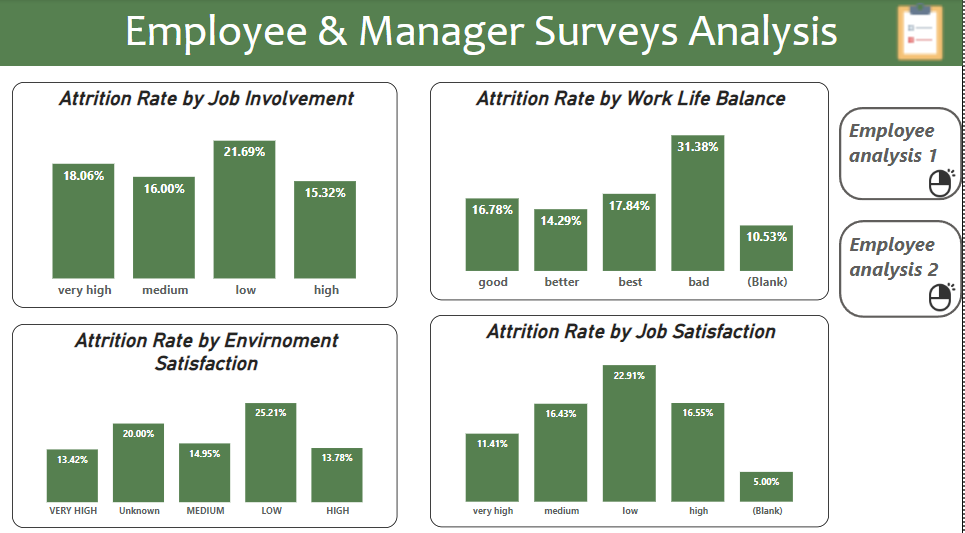

Layout of this report page (visuals, bound fields, positions):
{"tool":"powerbi","page":{"name":"survey analysis","canvas":[1280,720],"ordinal":2},"visuals":[{"type":"columnChart","title":"Attrition Rate by Job Involvement","fields":{"Category":["Dim_Survey.job_involvement"],"Y":["Measures_.Attrition_Rate"]},"box":[17.6,109.8,512.2,300],"z":0},{"type":"columnChart","title":"Attrition Rate by Job Satisfaction","fields":{"Category":["Dim_Survey.job_satisfaction"],"Y":["Measures_.Attrition_Rate"]},"box":[572,420,530,282],"z":1000},{"type":"columnChart","title":"Attrition Rate by Envirnoment Satisfaction","fields":{"Category":["Dim_Survey.env_satisfaction"],"Y":["Measures_.Attrition_Rate"]},"box":[17.6,431.7,512.2,270.7],"z":2000},{"type":"columnChart","title":"Attrition Rate by Work Life Balance","fields":{"Category":["Dim_Survey.Work life balance"],"Y":["Measures_.Attrition_Rate"]},"box":[572,110,530,290],"z":3000},{"type":"textbox","box":[0,0,1280.5,89.3],"z":4000},{"type":"actionButton","box":[1116,144,164,124],"z":5000},{"type":"actionButton","box":[1116,294,164,130],"z":6000},{"type":"image","box":[1168,0,112,90],"z":7000},{"type":"image","box":[1224,372,56,48],"z":8000},{"type":"image","box":[1224,220,56,48],"z":9000}]}

Visuals, with their boxes in screenshot pixels (x1, y1, x2, y2), scaled from the page's 1280x720 canvas onto the 965x533 screenshot:
"Attrition Rate by Job Involvement" columnChart: x1=13 y1=81 x2=399 y2=303
"Attrition Rate by Job Satisfaction" columnChart: x1=431 y1=311 x2=831 y2=520
"Attrition Rate by Envirnoment Satisfaction" columnChart: x1=13 y1=320 x2=399 y2=520
"Attrition Rate by Work Life Balance" columnChart: x1=431 y1=81 x2=831 y2=296
textbox: x1=0 y1=0 x2=964 y2=66
actionButton: x1=841 y1=107 x2=964 y2=198
actionButton: x1=841 y1=218 x2=964 y2=314
image: x1=881 y1=0 x2=964 y2=67
image: x1=923 y1=275 x2=964 y2=311
image: x1=923 y1=163 x2=964 y2=198
